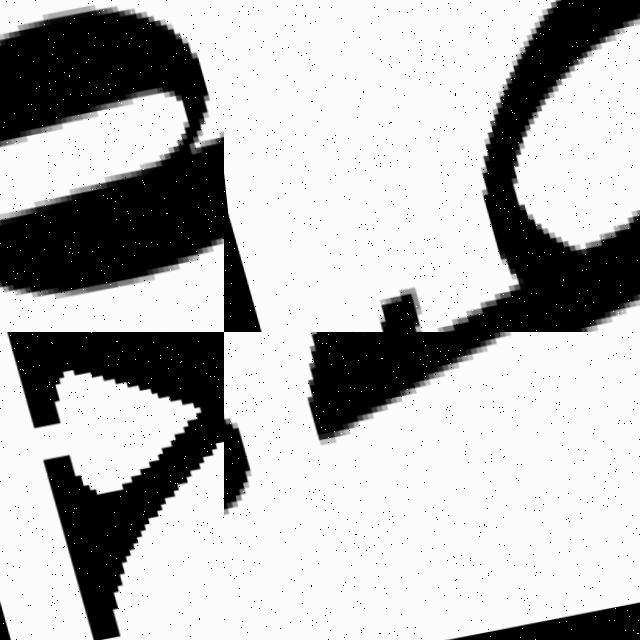9: (0, 0, 224, 327)
D: (226, 0, 640, 332)
I: (224, 332, 640, 522)
X: (0, 332, 224, 640)
